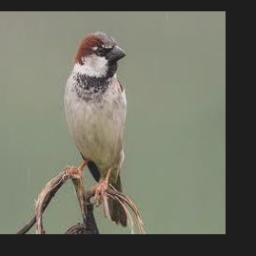Sparrow: (63, 30, 128, 226)
